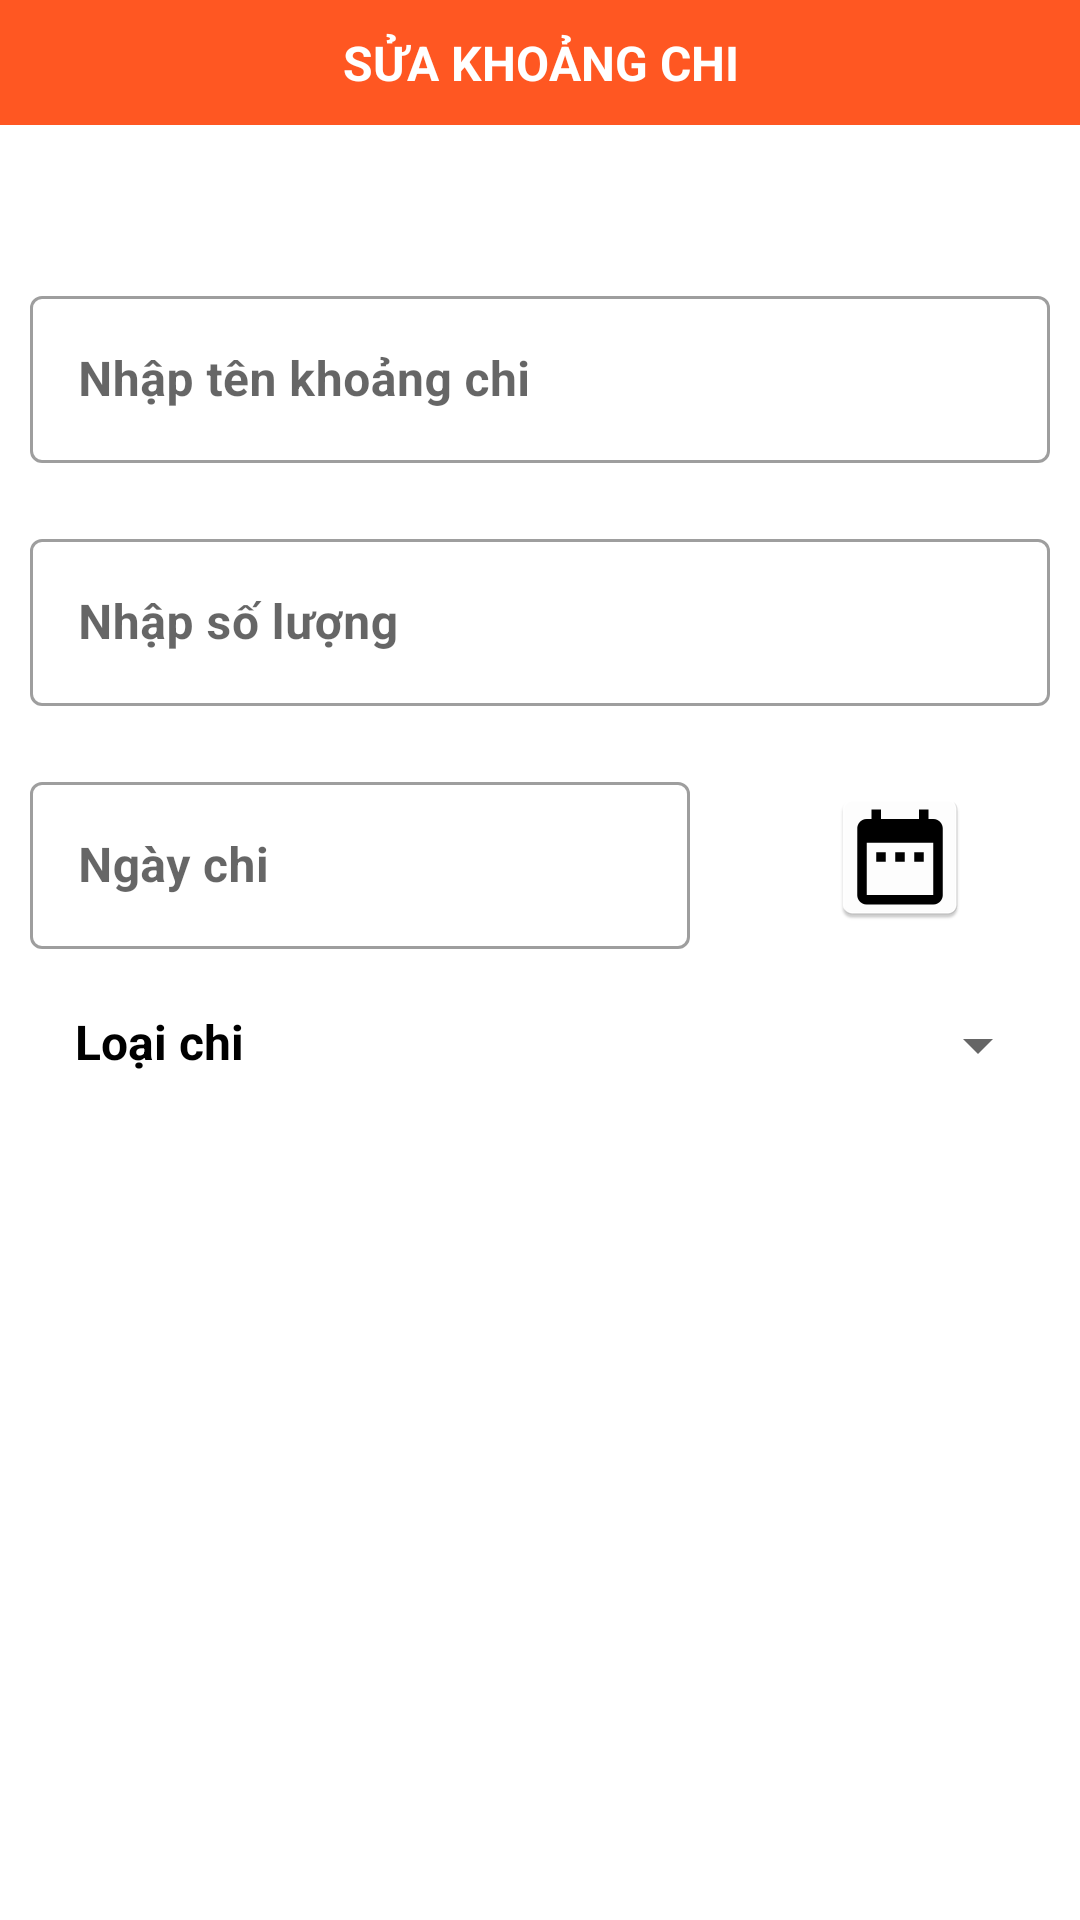

Point at icon controls on the screen. Image size 1080w x 1920h, points as (x,y).
date: (900,862)
